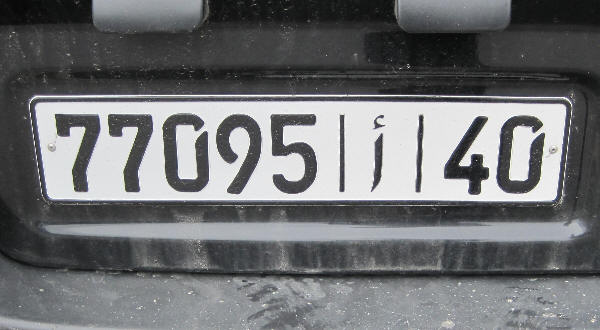number_plate: (29, 95, 572, 206)
